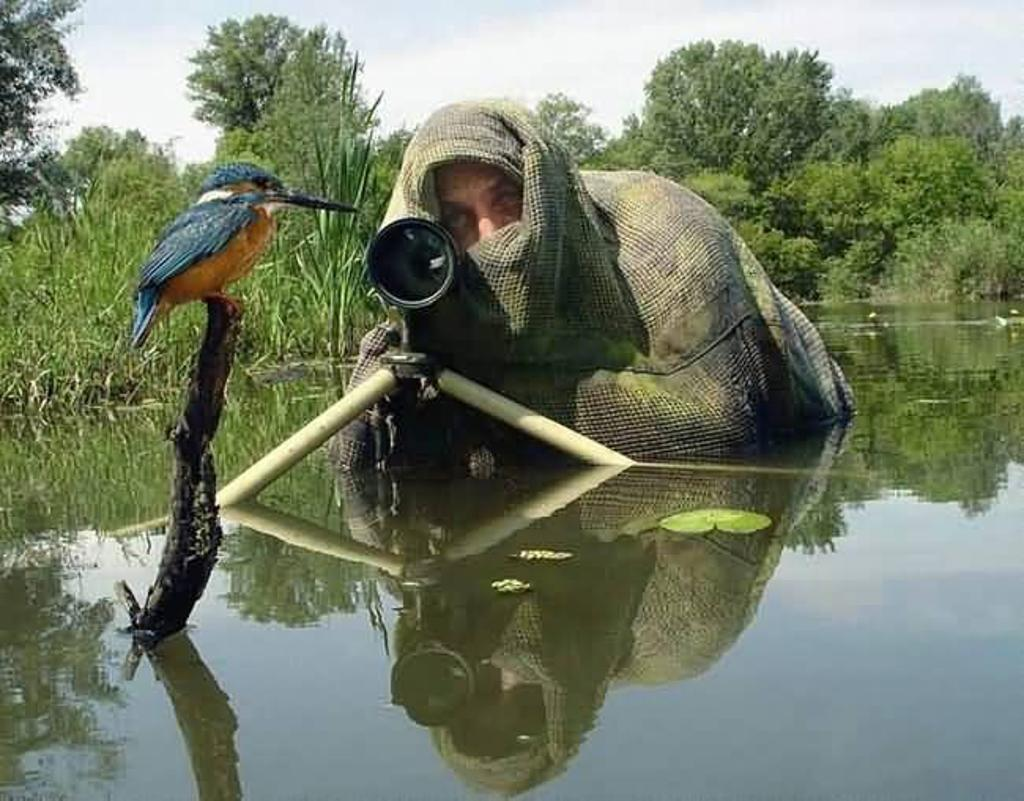face: (424, 156, 544, 338)
